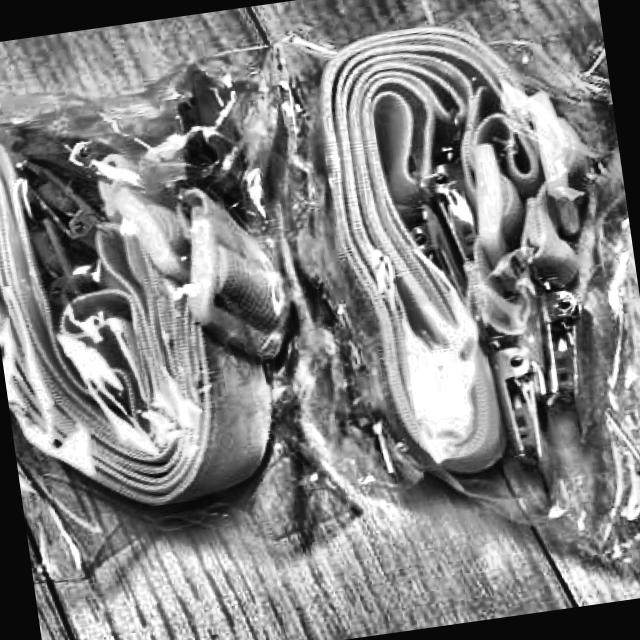Cable: (293, 2, 631, 488), (0, 91, 319, 519)
